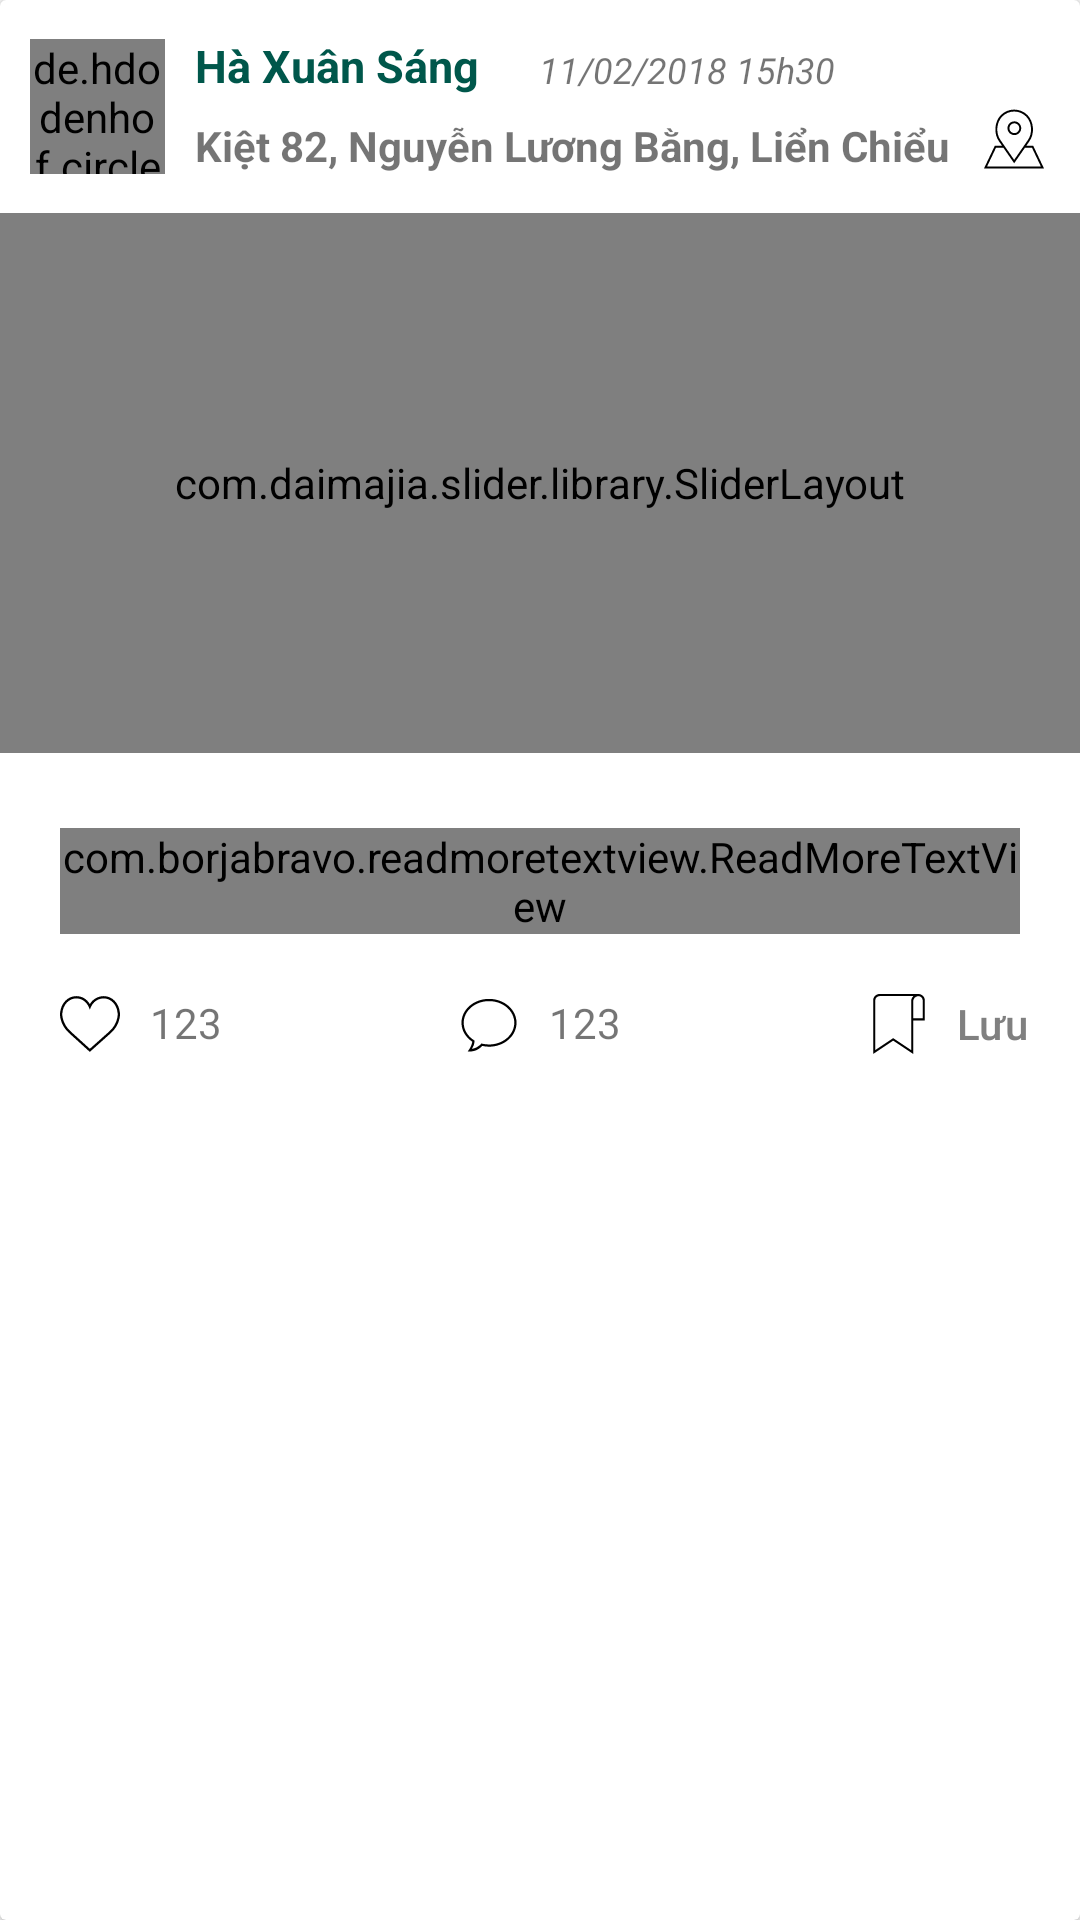

Icon click points for this 1080x1920 phone screenshot, format [x,y]:
comments: [489,1025]
love: [90,1024]
